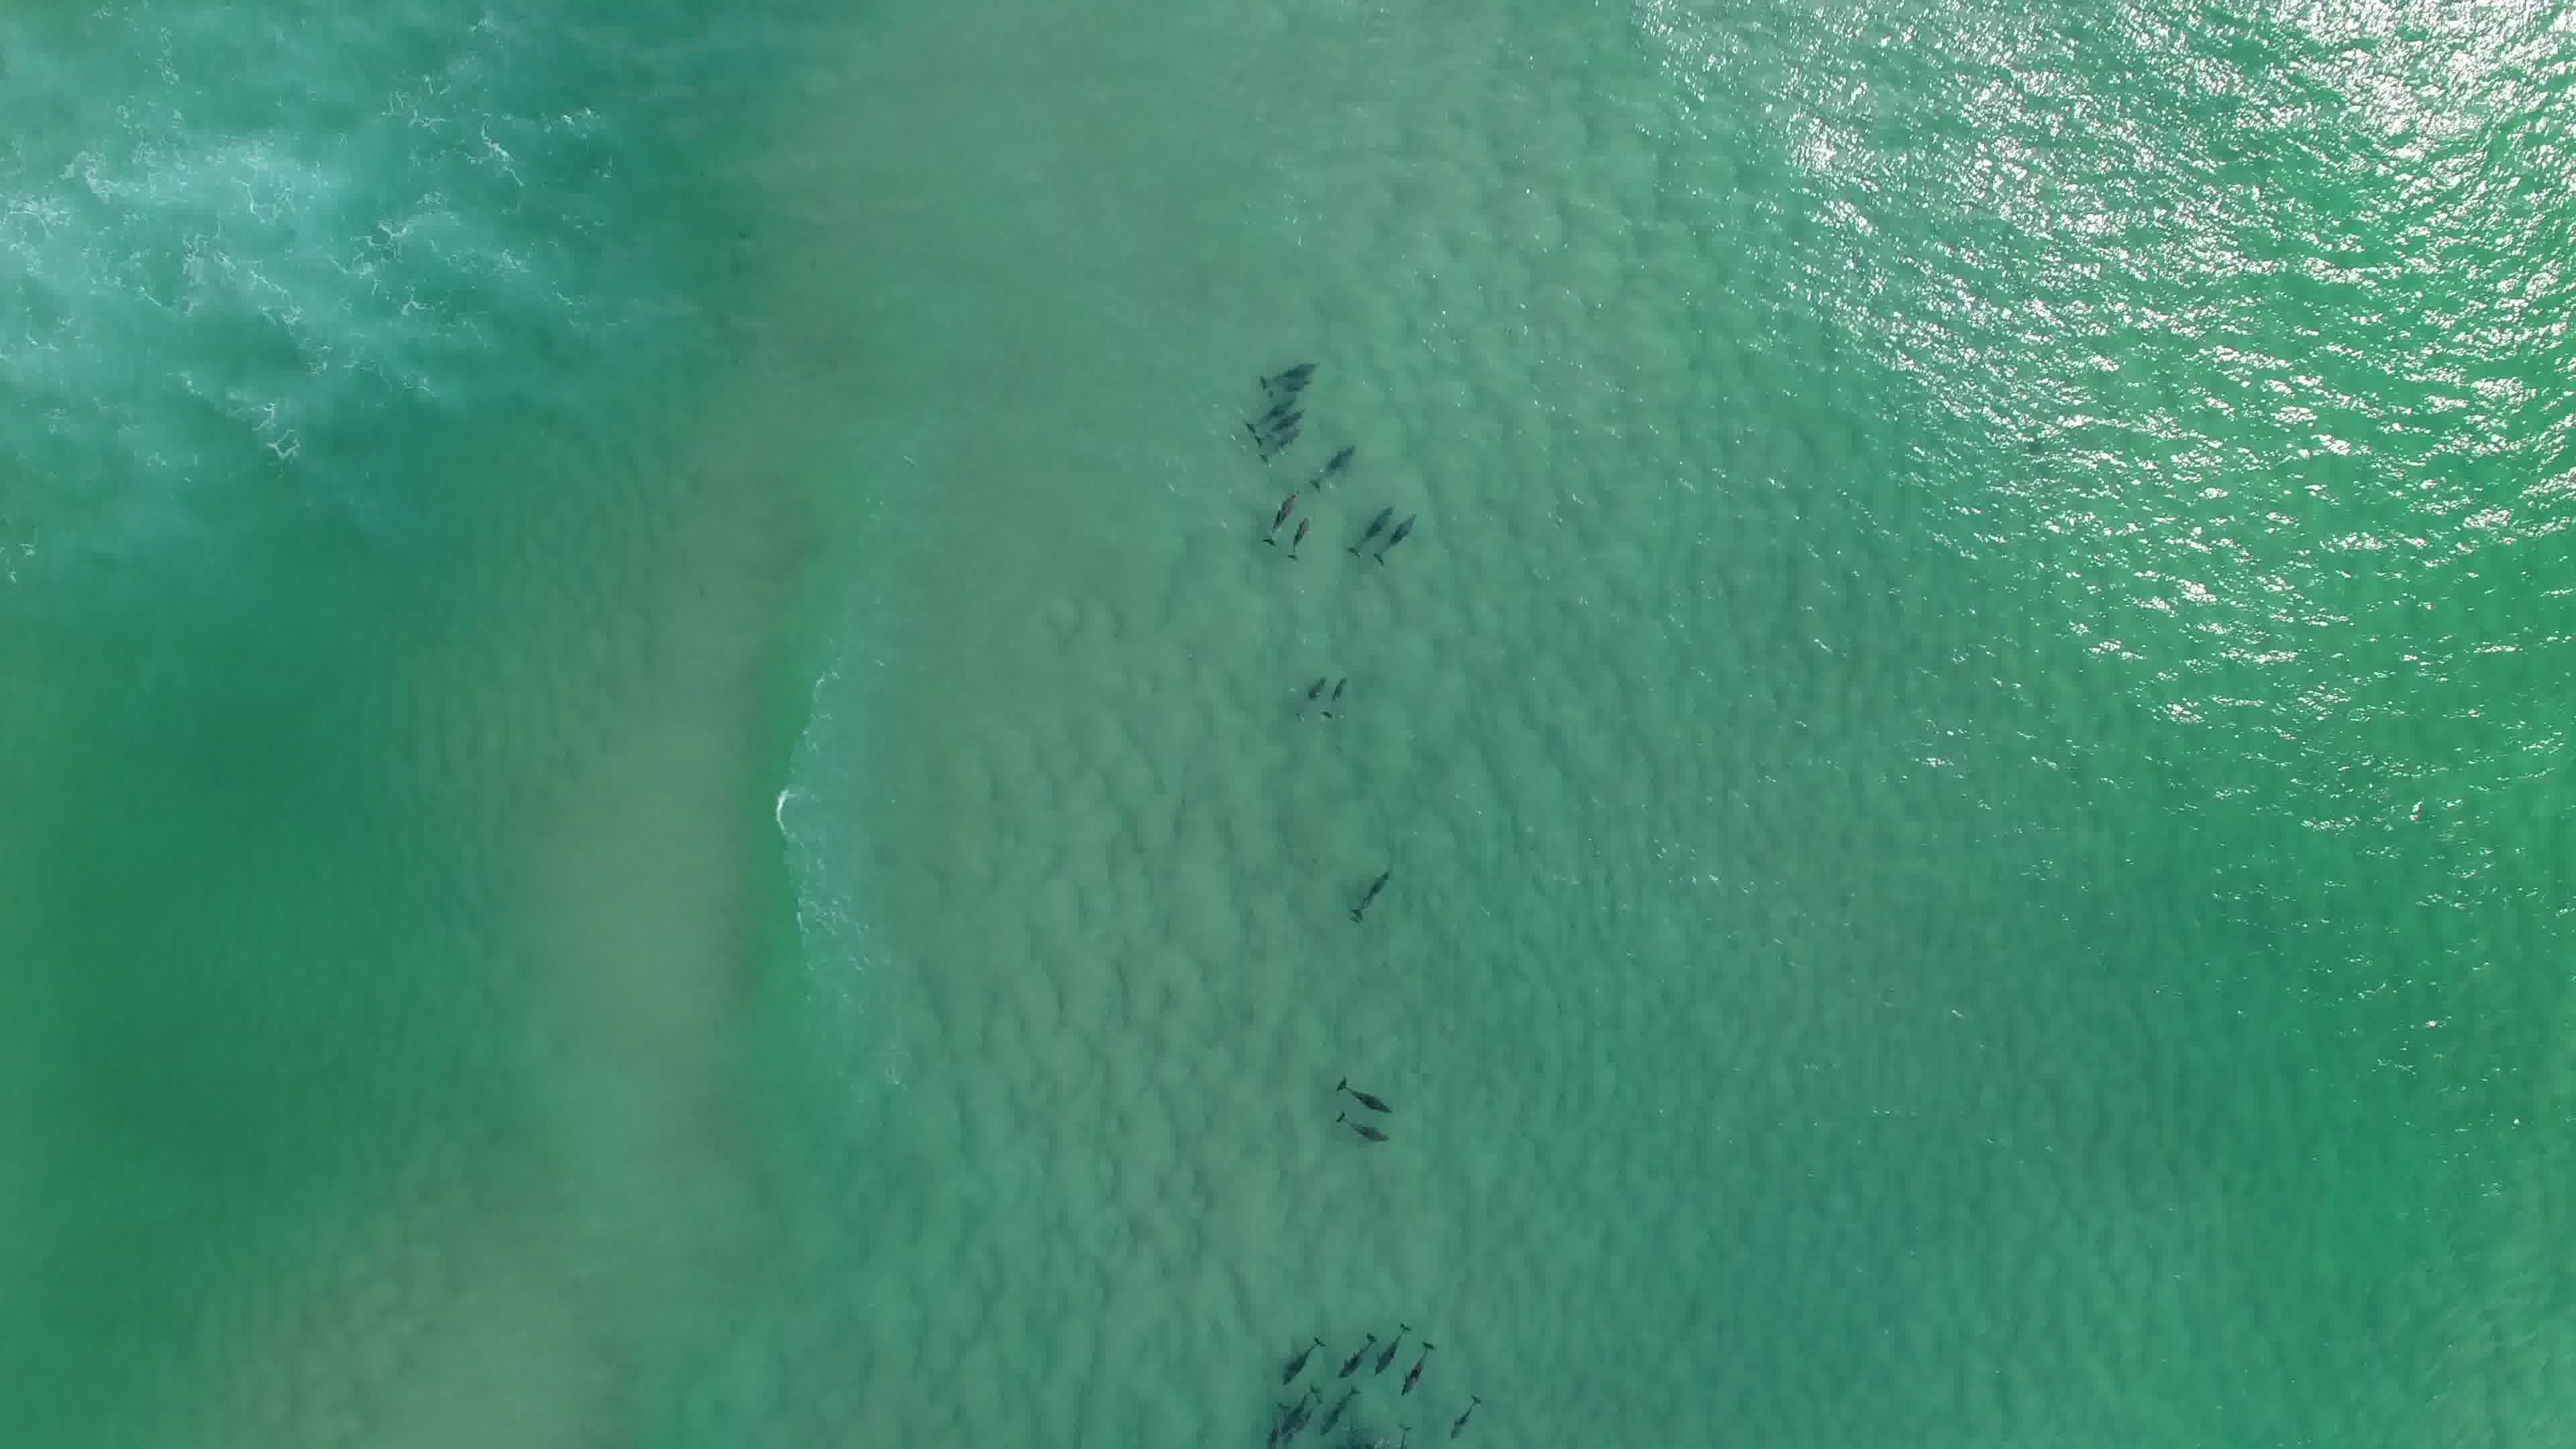dolphin: (1330, 855, 1410, 920), (1316, 1056, 1399, 1118), (1316, 1100, 1405, 1155), (1277, 1323, 1332, 1391), (1355, 1313, 1408, 1378), (1394, 1330, 1440, 1401), (1254, 476, 1302, 540), (1254, 1403, 1327, 1444), (1341, 497, 1396, 548), (1238, 398, 1304, 437), (1306, 433, 1357, 483), (1254, 350, 1322, 387), (1376, 510, 1419, 568), (1435, 1399, 1486, 1442), (1315, 1394, 1361, 1440), (1277, 495, 1311, 556), (1330, 1323, 1369, 1375), (1238, 389, 1295, 423), (1322, 665, 1352, 724), (1263, 430, 1311, 460), (1288, 662, 1322, 702), (1376, 1421, 1415, 1449)
